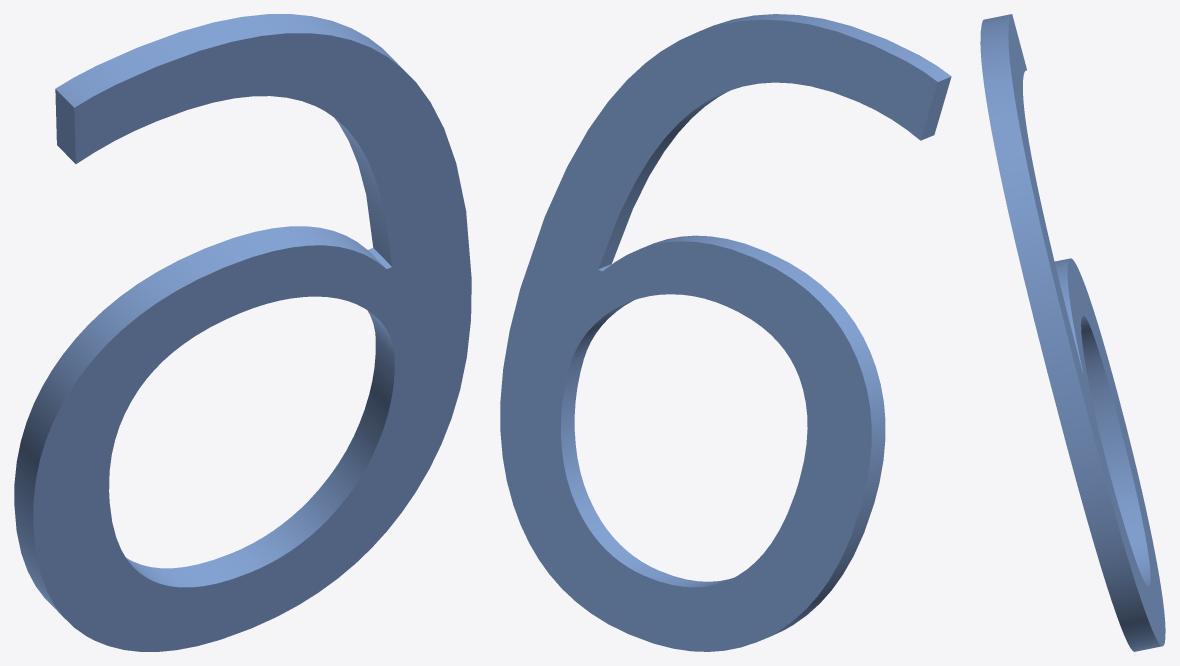
The model's file is New_Number_6.gltf.
3 views of the same model, side by side, from view 1: azimuth 30°, elevation 25°; view 2: azimuth 150°, elevation 25°; view 3: azimuth 270°, elevation 25° (orthographic). The views are drawn at different scales.
Parts seen in each view (by area): view 1: Part 447; view 2: Part 447; view 3: Part 447.
Part boxes in pixels (bbox=[...]): Part 447: bbox=[14, 14, 471, 651]; Part 447: bbox=[500, 14, 951, 651]; Part 447: bbox=[980, 14, 1165, 651].
Size of the model in its own units: 0.00372 by 0.00542 by 0.00165.
